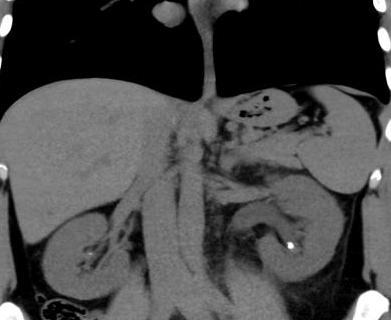Tas_Var: (286, 240, 294, 250), (85, 251, 95, 257)
